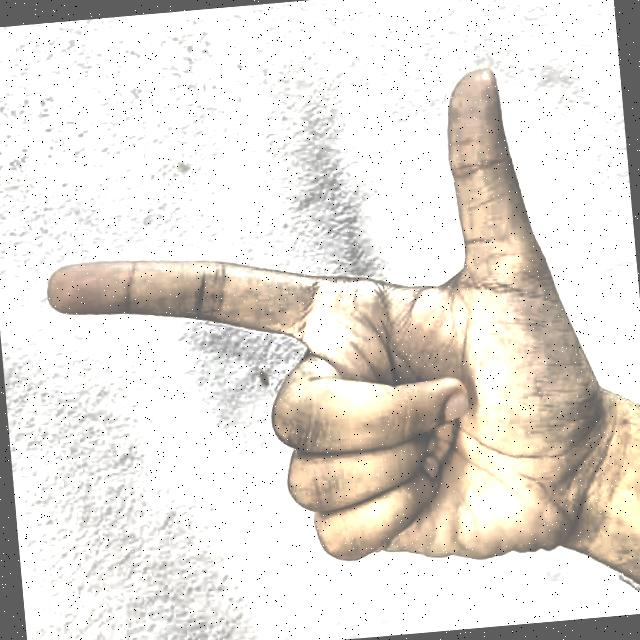Tha: (13, 37, 619, 631)
